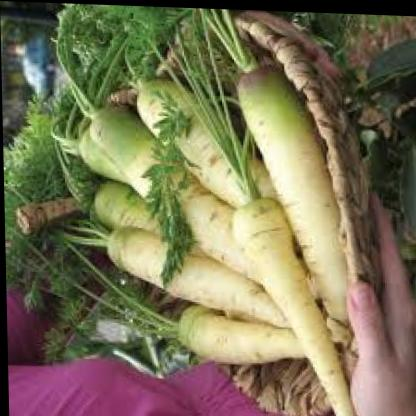Disposable tableware: (11, 0, 410, 416)
